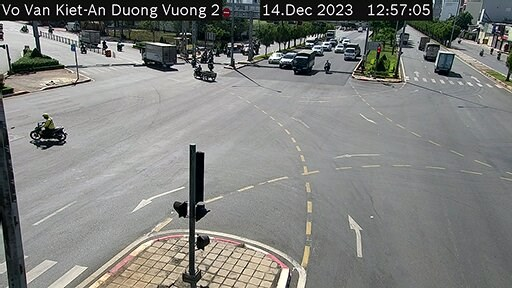car: (277, 52, 296, 68), (269, 49, 281, 62)
motorbike: (24, 108, 67, 146)
truck: (146, 41, 173, 69), (434, 50, 457, 75), (292, 51, 312, 76), (425, 43, 448, 61)
